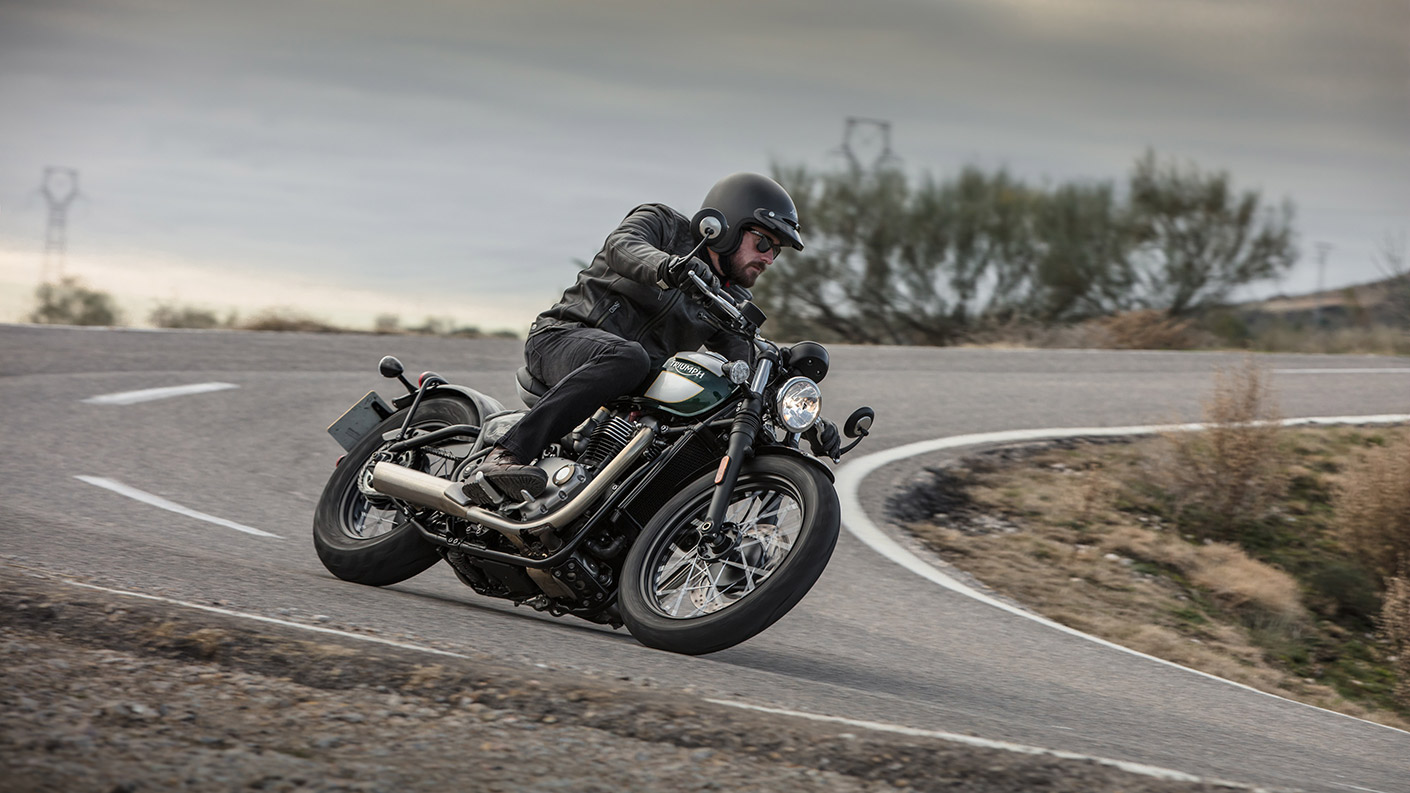helmet: (669, 167, 808, 297)
